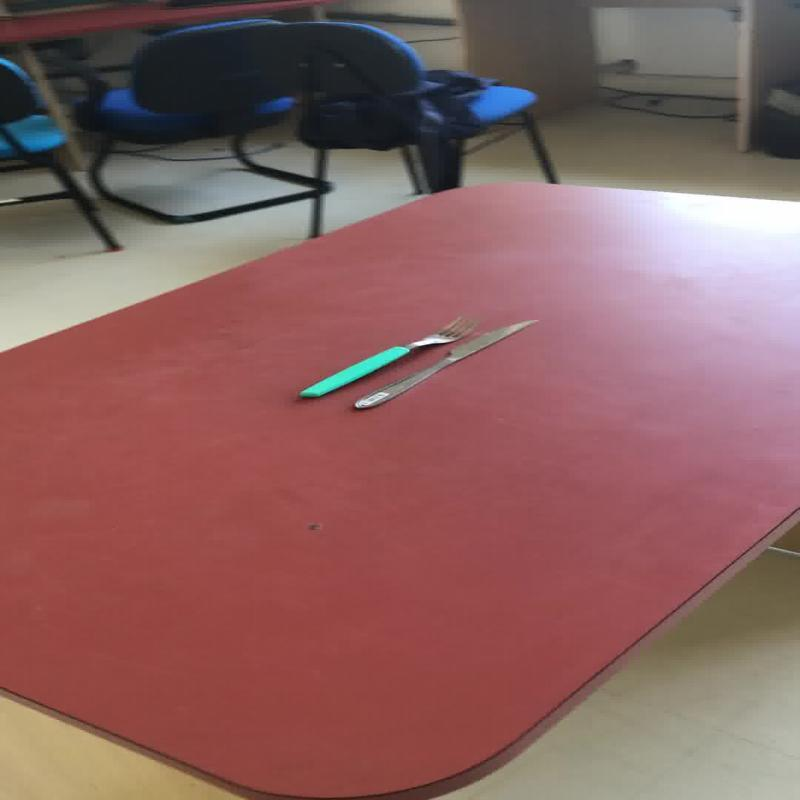fork: (296, 314, 476, 398)
knife: (296, 313, 538, 410), (351, 317, 538, 410)
